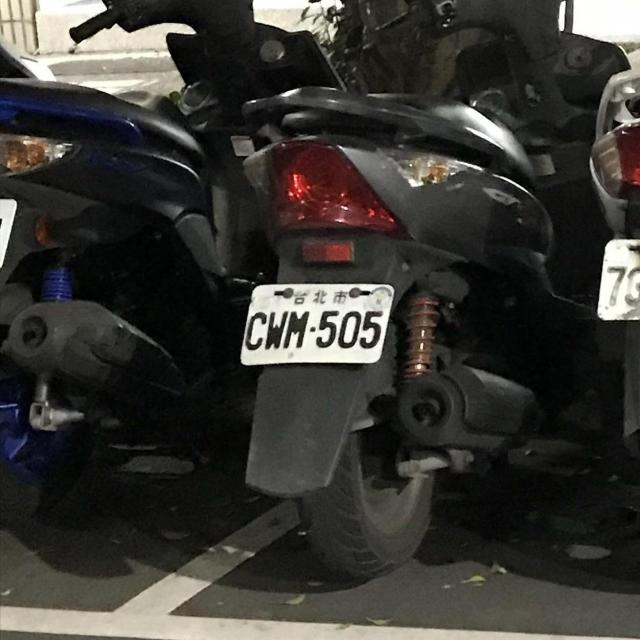W: (235, 265, 401, 384), (588, 217, 640, 341), (0, 172, 24, 283)
